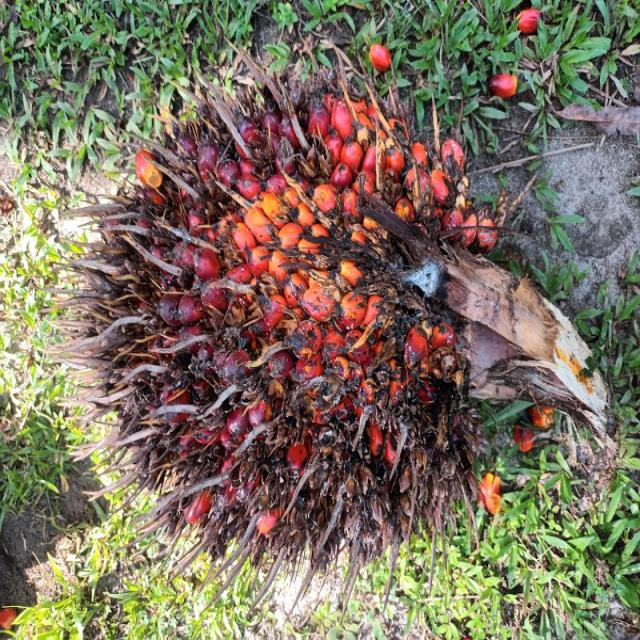fraksi 1: (38, 87, 429, 640)
